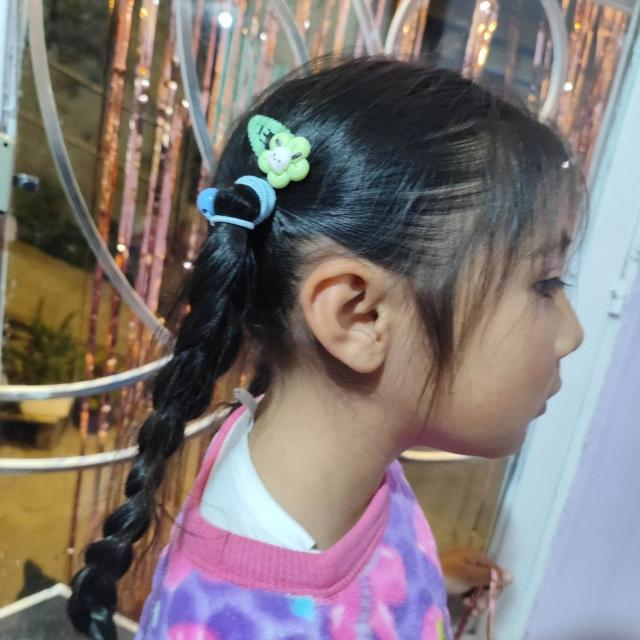ear: (300, 256, 389, 374)
